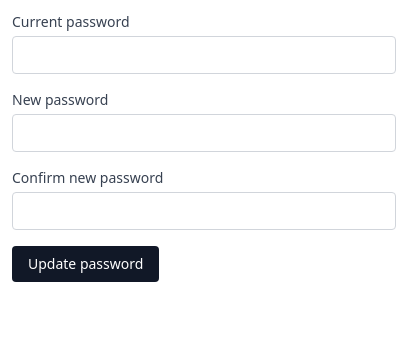
ChangePasswordForm › submits the current and new password when they match
Type "oldpassword" into the password field labelled "Current password" at (204, 55), box [12,36,396,74]
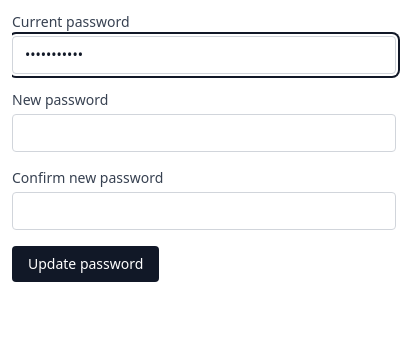
Type "newpassword1" into the password field labelled "New password" at (204, 133), box [12,114,396,152]
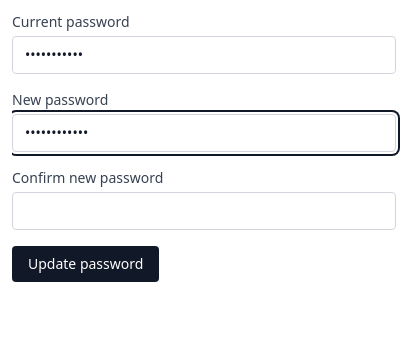
Type "newpassword1" into the password field labelled "Confirm new password" at (204, 211), box [12,192,396,230]
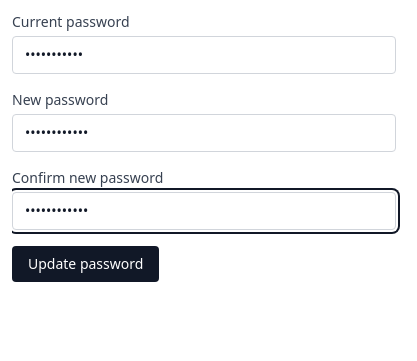
Click the button "Update password" at (86, 264), box [12,246,159,282]
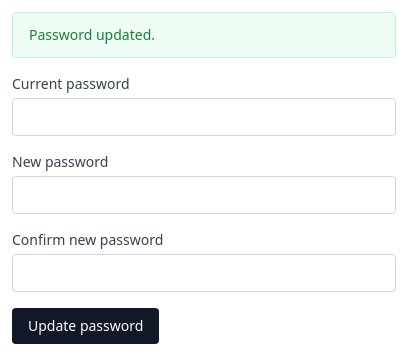
Now the message shows "updated", box [29,25,155,44]
